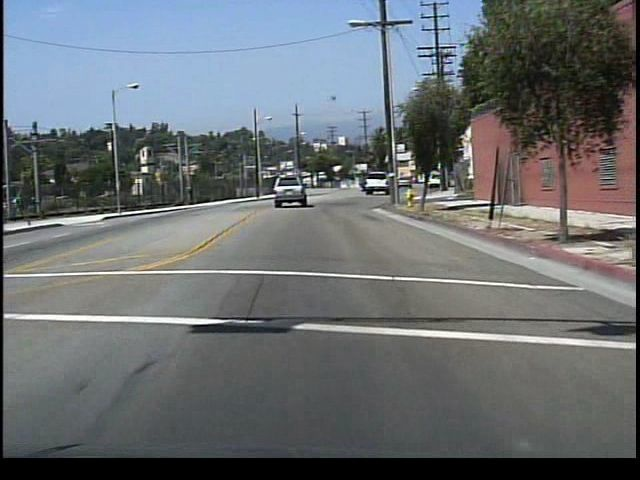person: (184, 180, 200, 205)
